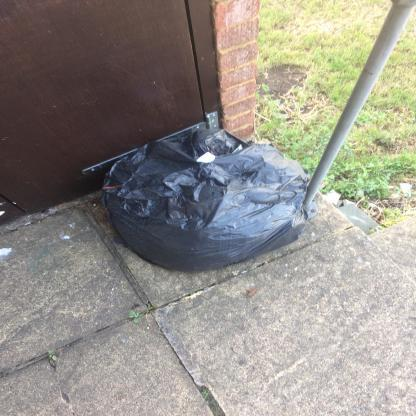plastik: (102, 130, 310, 274)
